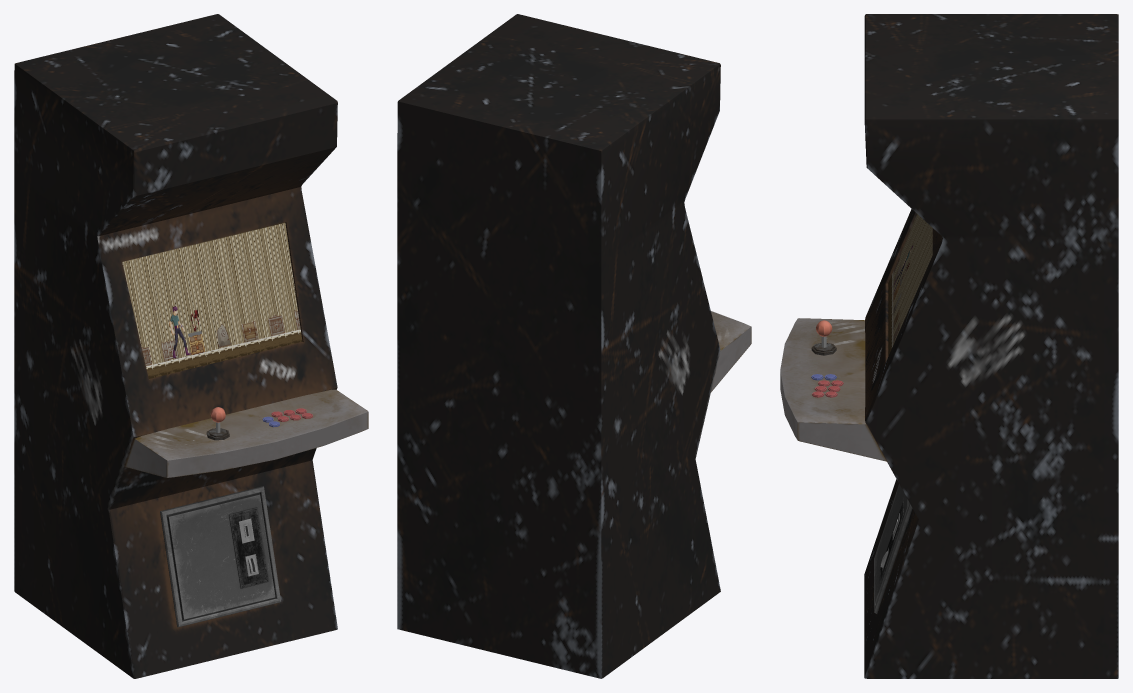
Rendered from Arc_Main.fbx.
3 views of the same model, side by side, from view 1: azimuth 30°, elevation 25°; view 2: azimuth 150°, elevation 25°; view 3: azimuth 270°, elevation 25° (orthographic). The views are drawn at different scales.
Parts seen in each view (by area): view 1: Cabinet-main; view 2: Cabinet-main; view 3: Cabinet-main.
Part boxes in pixels (x1=…): Cabinet-main: x1=14, y1=14, x2=368, y2=678; Cabinet-main: x1=397, y1=14, x2=751, y2=678; Cabinet-main: x1=780, y1=14, x2=1118, y2=678.
Bounding box in the file's own units: 129 × 317 × 174.
1 material, 1 textured.
